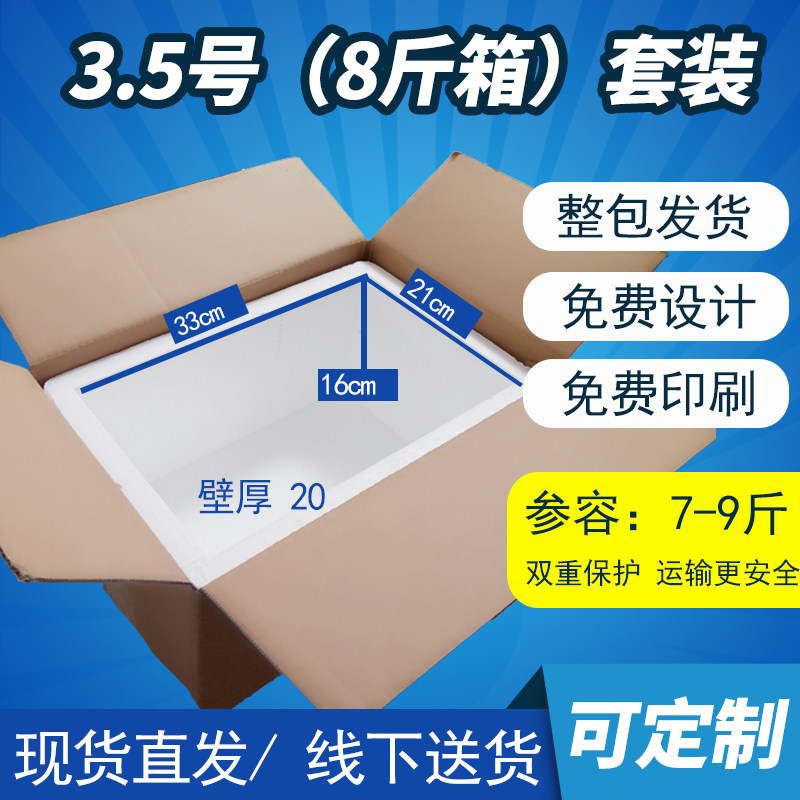泡沫箱: (45, 272, 525, 584)
